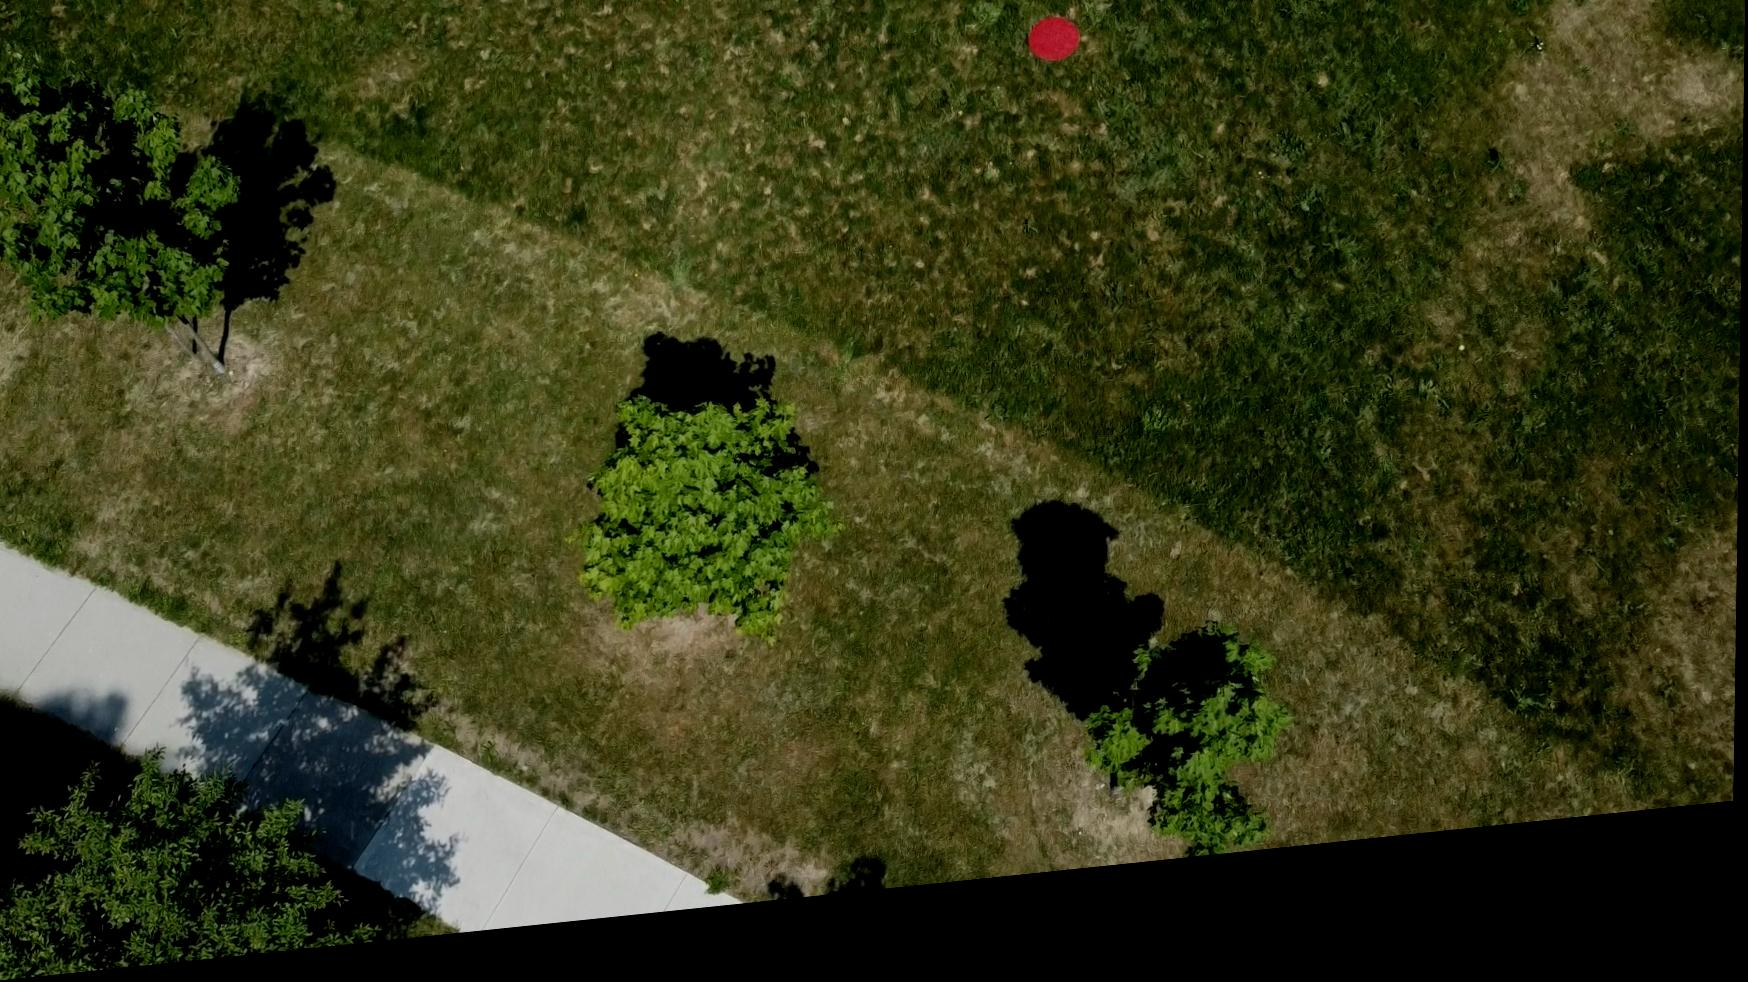Red: (1025, 35, 1084, 90)
